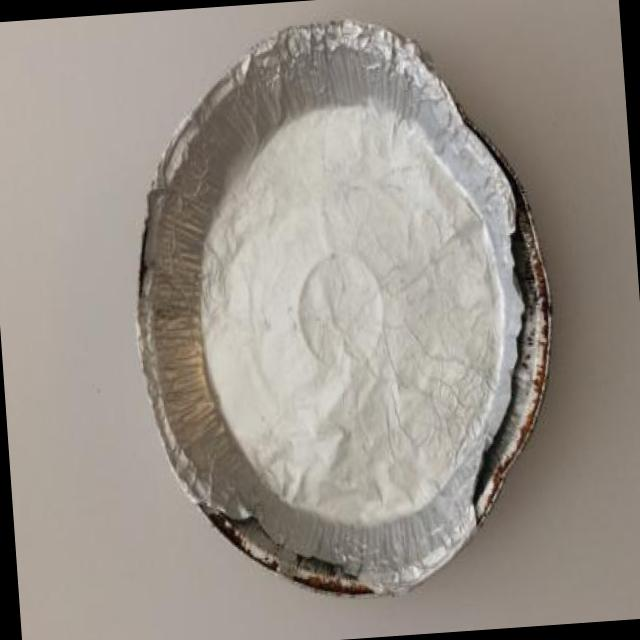kim_loai: (135, 15, 553, 595)
